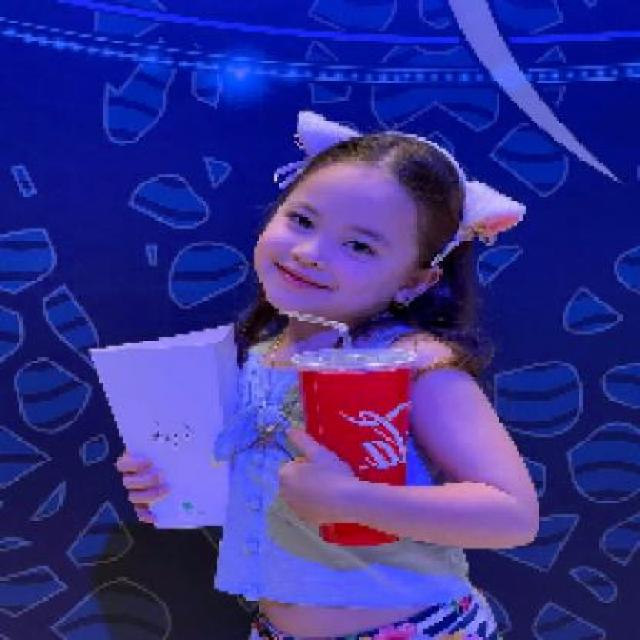child: (108, 108, 543, 638)
